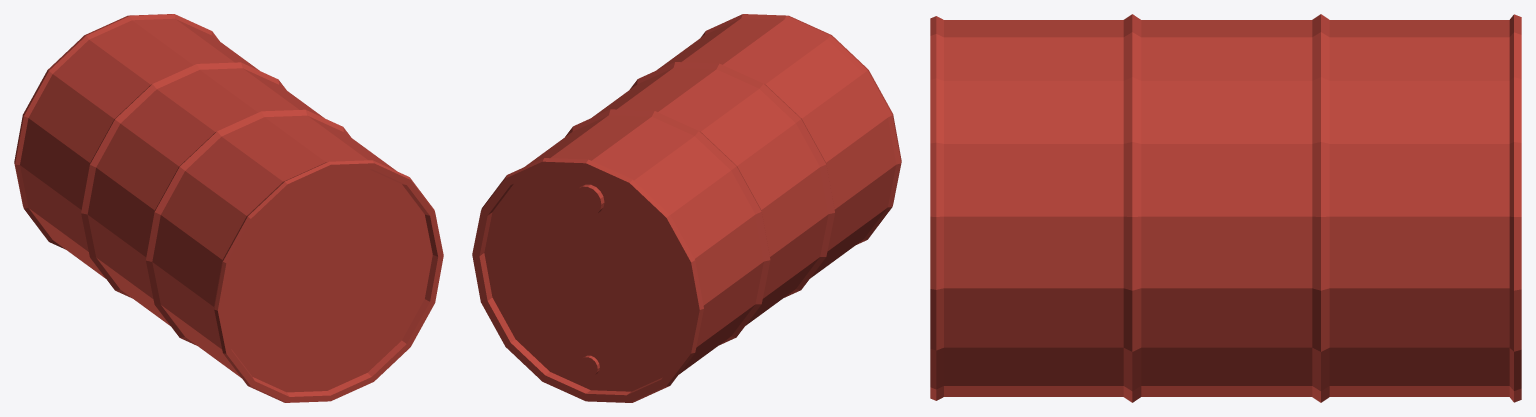
Rendered from Barrel_Red.fbx.
3 views of the same model, side by side, from view 1: azimuth 30°, elevation 25°; view 2: azimuth 150°, elevation 25°; view 3: azimuth 270°, elevation 25° (orthographic). The views are drawn at different scales.
Visible parts, largest first — view 1: Barrel_Red; view 2: Barrel_Red; view 3: Barrel_Red.
Part boxes in pixels (<box>): Barrel_Red: <box>14,14,443,402</box>; Barrel_Red: <box>472,14,901,402</box>; Barrel_Red: <box>930,14,1521,402</box>.
Size of the model in its own units: 0.8071 by 0.8071 by 1.23.
